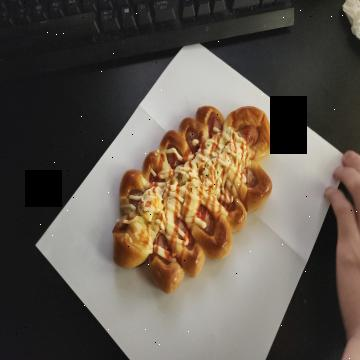pizza_bread: (110, 106, 274, 292)
